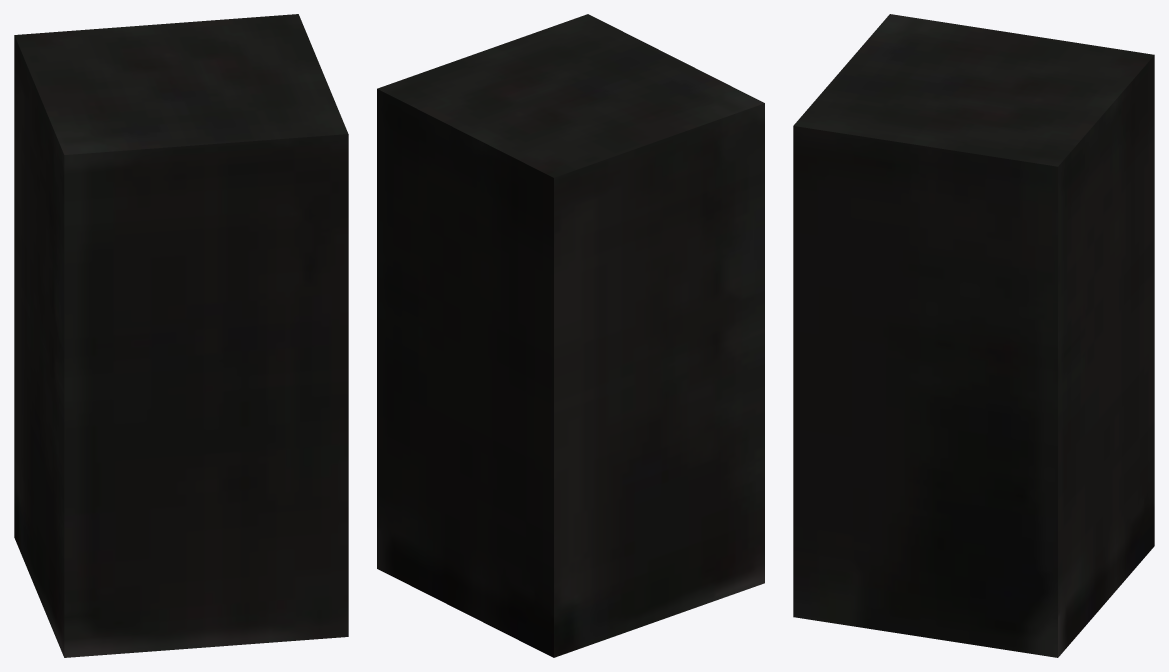
File: center_frame__rack_tooth_3.glb
3 renders of one model, left to right at view 1: azimuth 30°, elevation 25°; view 2: azimuth 150°, elevation 25°; view 3: azimuth 270°, elevation 25°, orthographic. The views are drawn at different scales.
Parts seen in each view (by area): view 1: world; view 2: world; view 3: world.
Part boxes in pixels (box(x1,y1,x2,y2)): world: box(14, 14, 348, 657); world: box(377, 14, 764, 657); world: box(793, 14, 1154, 657).
Bounding box in the file's own units: 0.0333 × 0.05 × 0.0333.
Materials: 1 (1 with a texture image).
